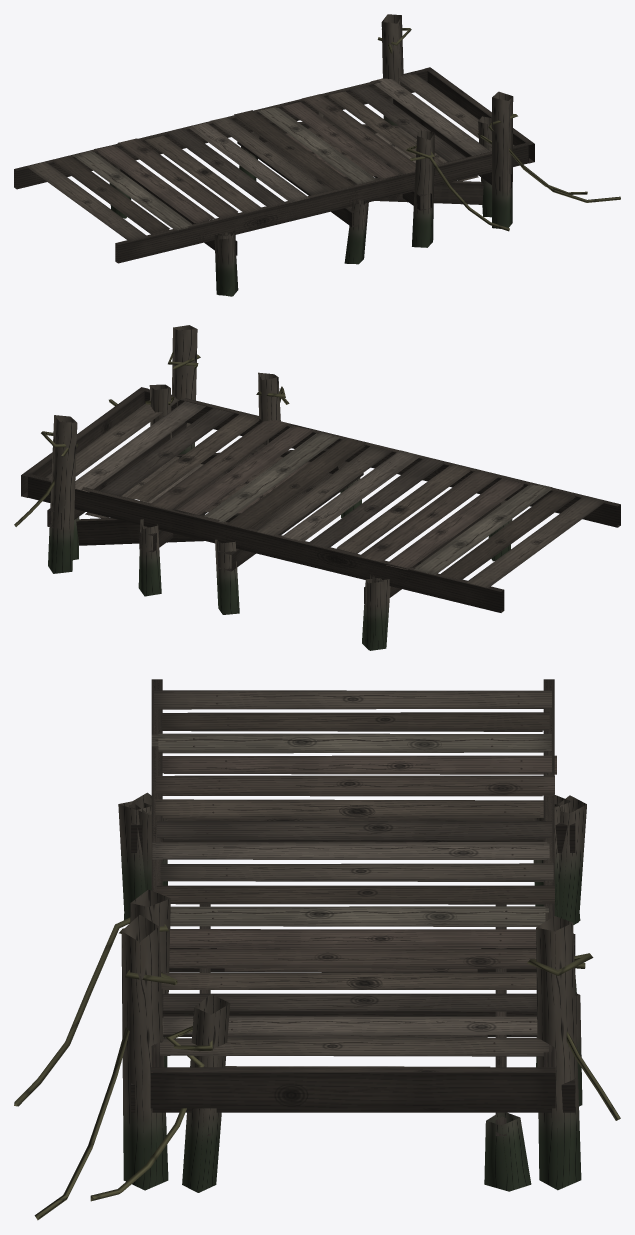
Rendered from dock_cuyabeno_hp_LOD2.glb.
The picture shows the model from 3 angles, top to bottom: view 1: azimuth 30°, elevation 25°; view 2: azimuth 150°, elevation 25°; view 3: azimuth 270°, elevation 25°; orthographic projection. The views are drawn at different scales.
Visible parts, largest first — view 1: Dock_End_LOD2, Dock_Step_LOD2, Dock_Straight_LOD2; view 2: Dock_End_LOD2, Dock_Step_LOD2, Dock_Straight_LOD2; view 3: Dock_End_LOD2, Dock_Step_LOD2, Dock_Straight_LOD2.
Part boxes in pixels (x1,y1,x2,y2): Dock_End_LOD2: [14, 14, 620, 296]; Dock_Step_LOD2: [14, 116, 587, 296]; Dock_Straight_LOD2: [52, 74, 514, 294]; Dock_End_LOD2: [14, 325, 620, 612]; Dock_Step_LOD2: [73, 384, 620, 650]; Dock_Straight_LOD2: [45, 372, 575, 649]; Dock_End_LOD2: [34, 679, 620, 1220]; Dock_Step_LOD2: [90, 679, 580, 1201]; Dock_Straight_LOD2: [14, 712, 586, 1106].
Bounding box in the file's own units: 4.86 × 1.29 × 2.79.
1 material, 1 textured.
